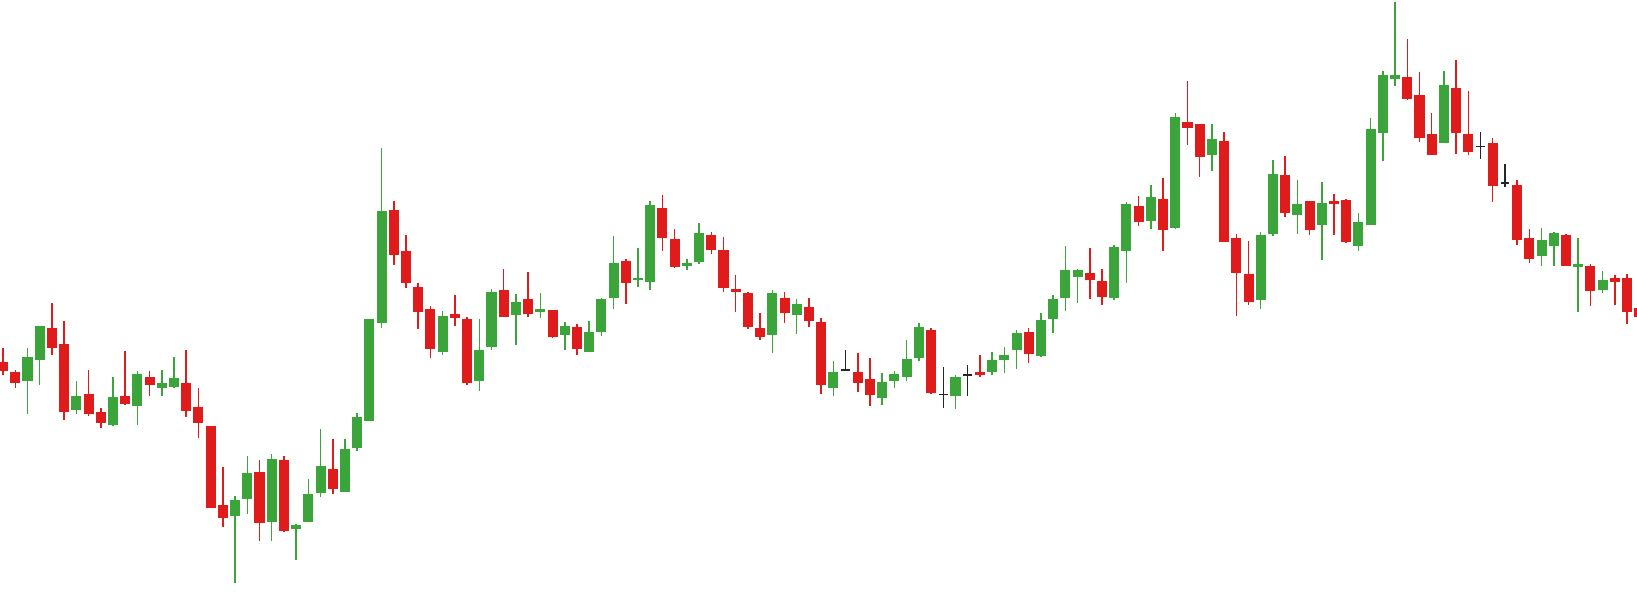buy: (1155, 162, 1267, 315), (865, 355, 963, 414)
sell: (1179, 1, 1428, 156)
